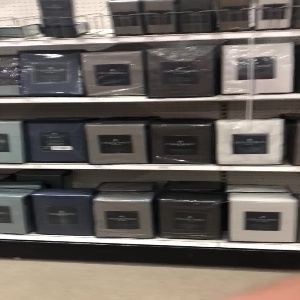void: (78, 1, 115, 34)
